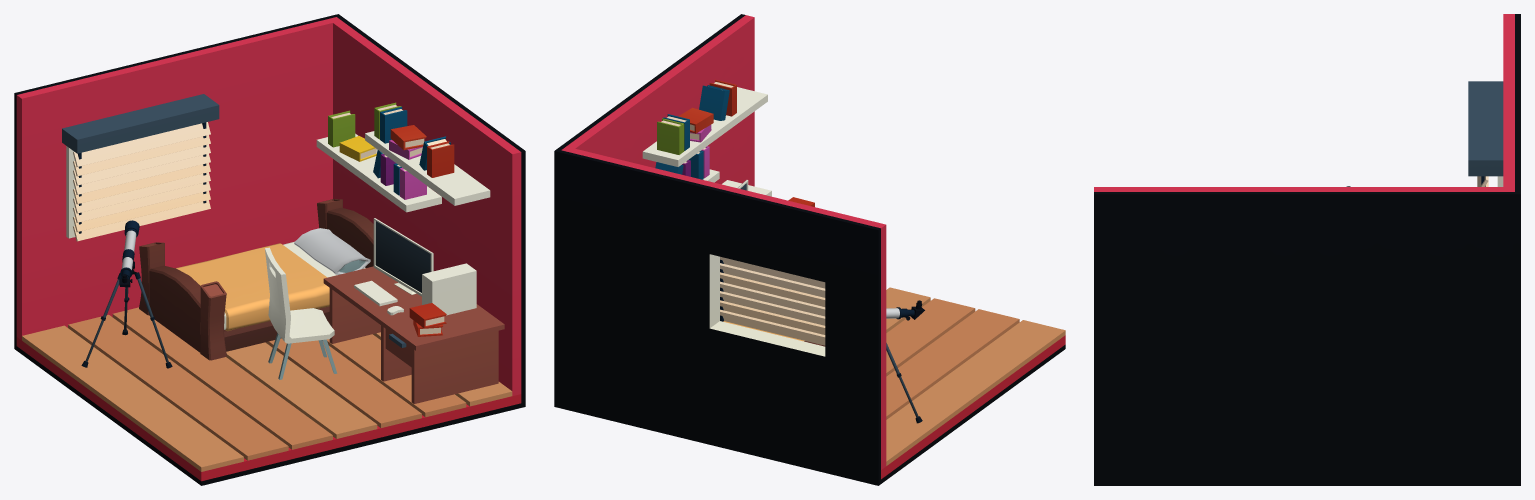
Rendered from room1.glb.
3 renders of one model, left to right at view 1: azimuth 30°, elevation 25°; view 2: azimuth 150°, elevation 25°; view 3: azimuth 270°, elevation 25°, orthographic. The views are drawn at different scales.
Parts seen in each view (by area): view 1: Walls2, Bed, Wood_Plank7, Wood_Plank1, Wood_Plank2, Wood_Plank3, Top, Leg3, Wood_Plank4, Top_Colors_0.001, Computer, Top2 (+25 smaller); view 2: Walls2, Wood_Plank7, Wood_Plank1, Wood_Plank2, Shelf1, Blind8, Blind6, Blind3, Blind7, Blind5, Blind4, Book7 (+4 smaller); view 3: Walls2, Top_Colors_0.001.
Boxes of the visible parts, bbox=[...] form: Walls2: bbox=[14, 14, 525, 485]; Bed: bbox=[139, 199, 373, 360]; Wood_Plank7: bbox=[22, 325, 243, 471]; Wood_Plank1: bbox=[68, 314, 288, 460]; Wood_Plank2: bbox=[112, 307, 332, 449]; Wood_Plank3: bbox=[226, 342, 377, 438]; Top: bbox=[323, 266, 504, 350]; Leg3: bbox=[411, 330, 498, 403]; Wood_Plank4: bbox=[265, 338, 421, 427]; Top_Colors_0.001: bbox=[62, 94, 219, 153]; Computer: bbox=[373, 218, 433, 296]; Top2: bbox=[265, 247, 334, 343]; Walls2: bbox=[554, 14, 1065, 485]; Wood_Plank7: bbox=[886, 320, 1065, 465]; Wood_Plank1: bbox=[886, 309, 1019, 419]; Wood_Plank2: bbox=[886, 298, 975, 376]; Shelf1: bbox=[642, 87, 767, 166]; Blind8: bbox=[720, 309, 825, 345]; Blind6: bbox=[720, 291, 825, 325]; Blind3: bbox=[720, 263, 825, 297]; Blind7: bbox=[720, 300, 825, 334]; Blind5: bbox=[720, 281, 825, 316]; Blind4: bbox=[720, 272, 825, 306]; Book7: bbox=[657, 118, 684, 154]; Walls2: bbox=[1094, 14, 1520, 485]; Top_Colors_0.001: bbox=[1468, 81, 1503, 176].
Bounding box in the file's own units: 3.65 × 2.75 × 3.65.
1 material, 1 textured.
